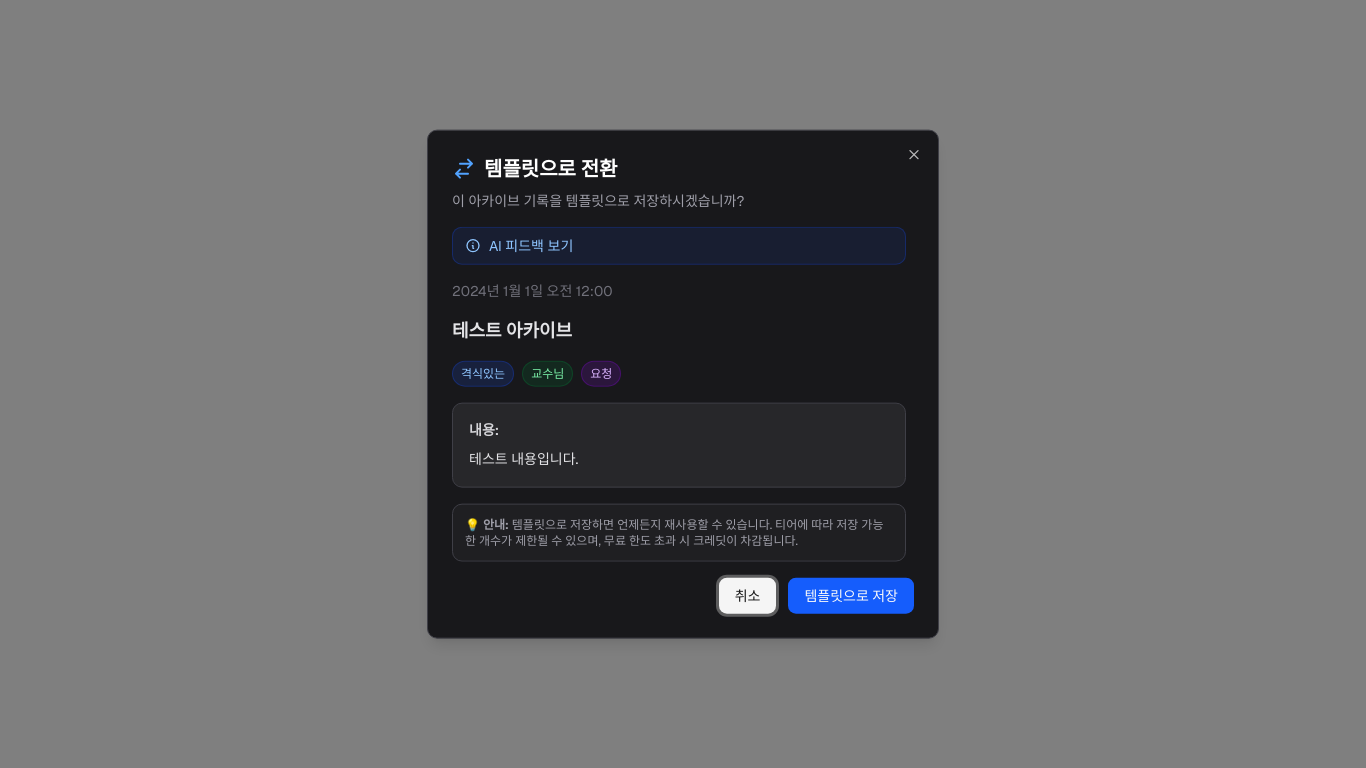
ConvertToTemplateModal › AI 피드백 (rationale) › AI 피드백 숨기기 버튼 클릭 시 피드백을 숨긴다
Check: the text "AI 피드백 보기" is shown, box top-left (489, 236), bottom-right (573, 256)
Click the button "AI 피드백 보기": (518, 246) top-left (452, 227), bottom-right (906, 265)
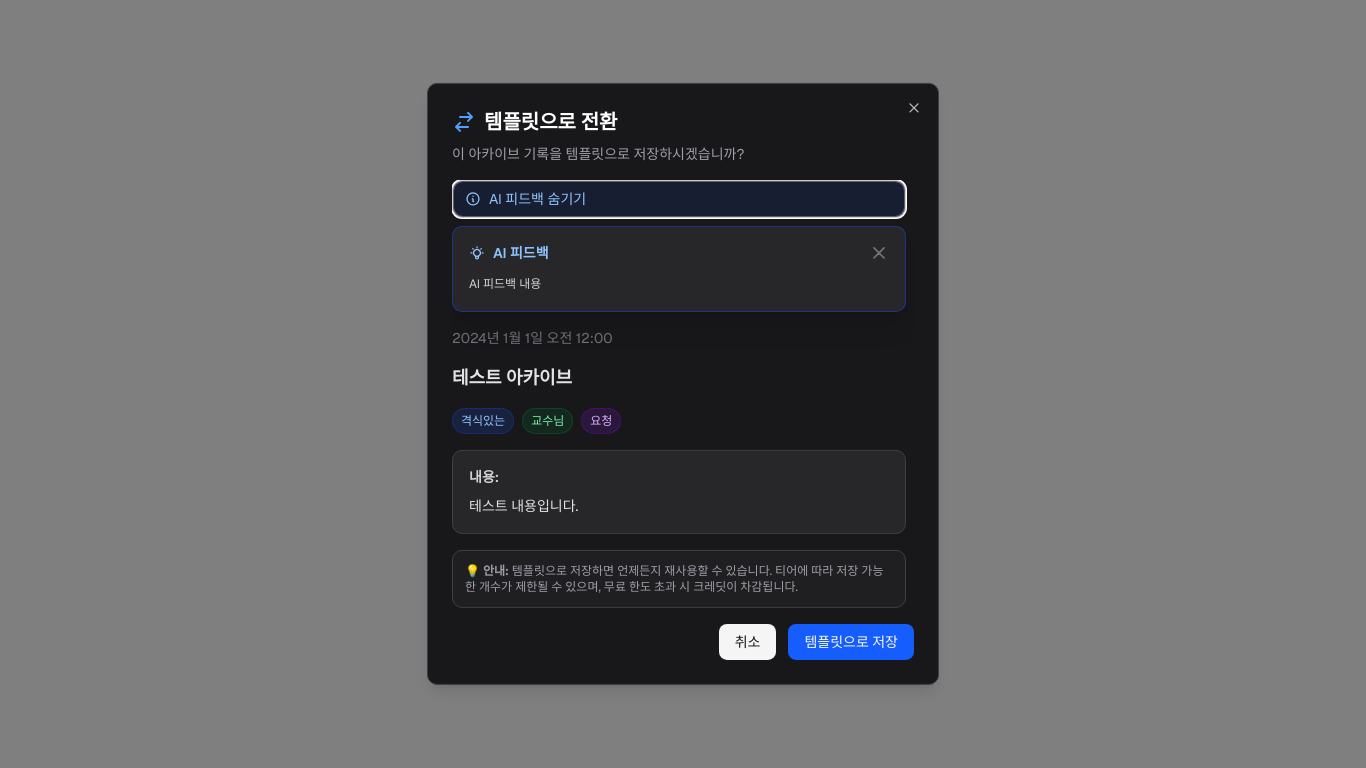
Check: the text "AI 피드백 숨기기" is shown, box top-left (489, 189), bottom-right (586, 209)
그 다음 숨기기
Click the button "AI 피드백 숨기기": (518, 199) top-left (452, 180), bottom-right (906, 218)
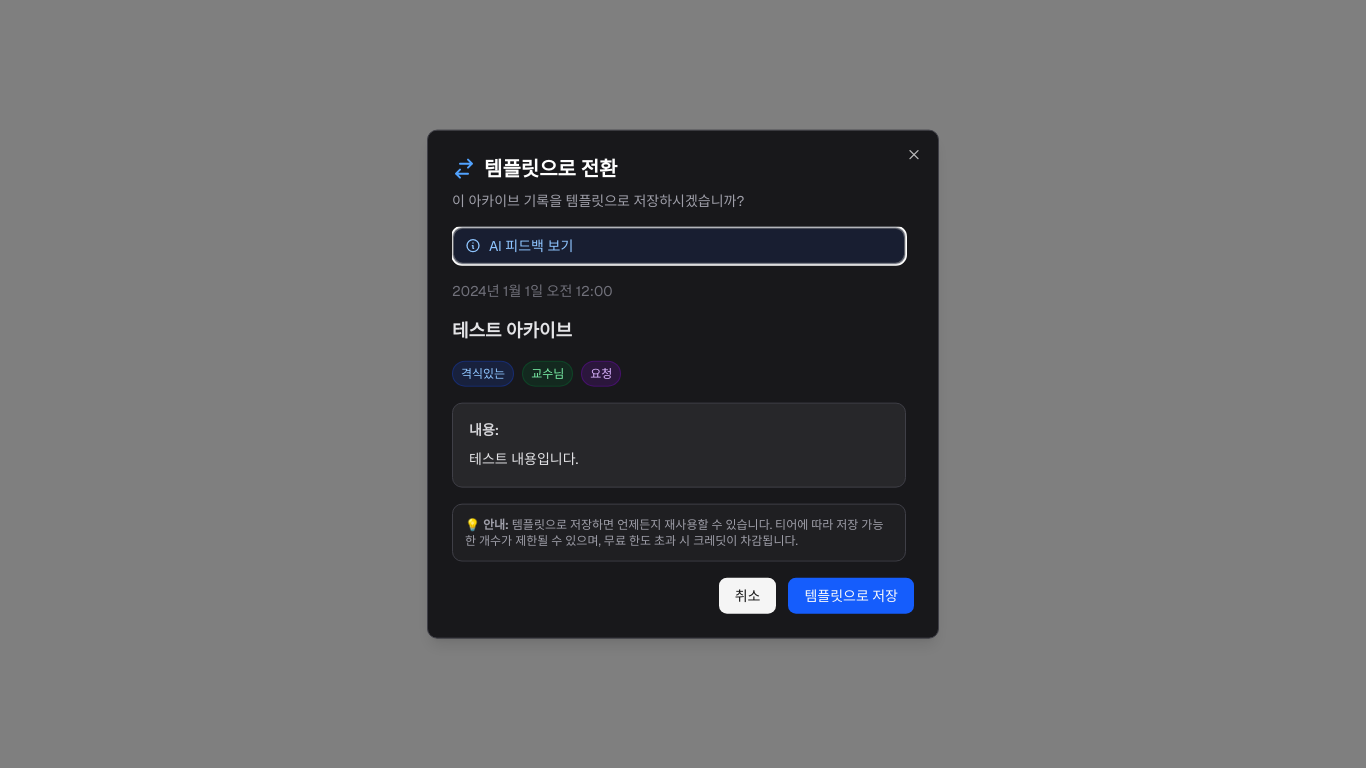
Check: the text "AI 피드백 내용" is gone
Check: the text "AI 피드백 보기" is shown, box top-left (489, 236), bottom-right (573, 256)
